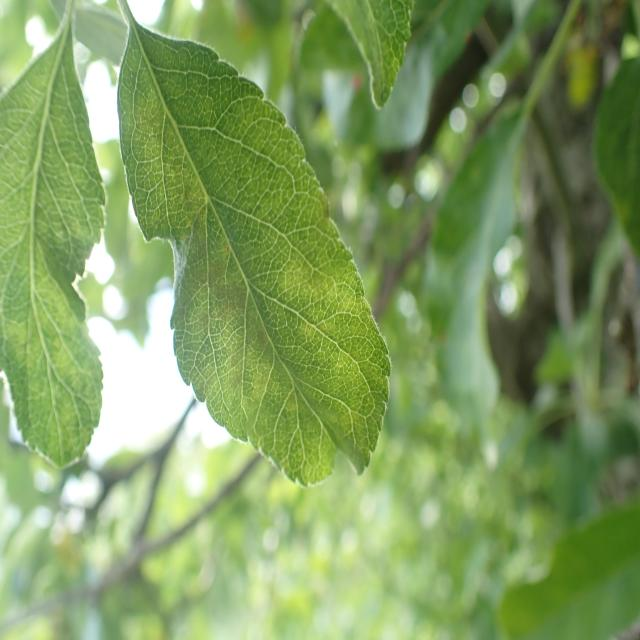scab: (140, 107, 372, 517)
